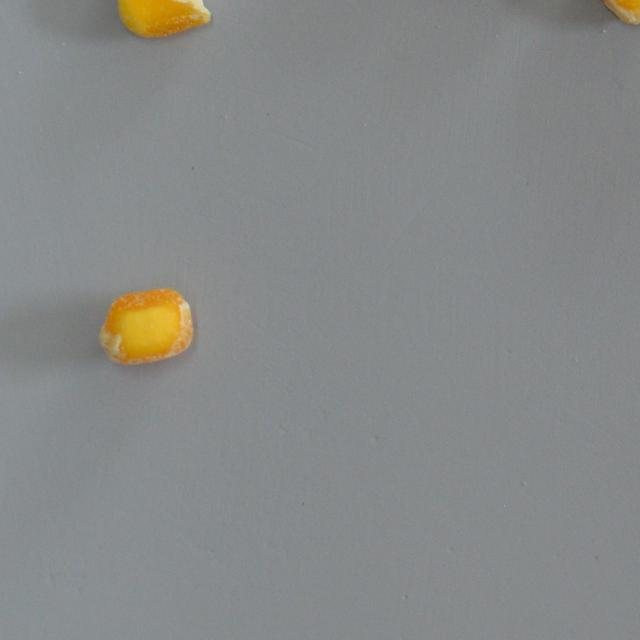pelicula: (98, 287, 194, 365), (118, 0, 212, 36), (583, 0, 640, 25)
